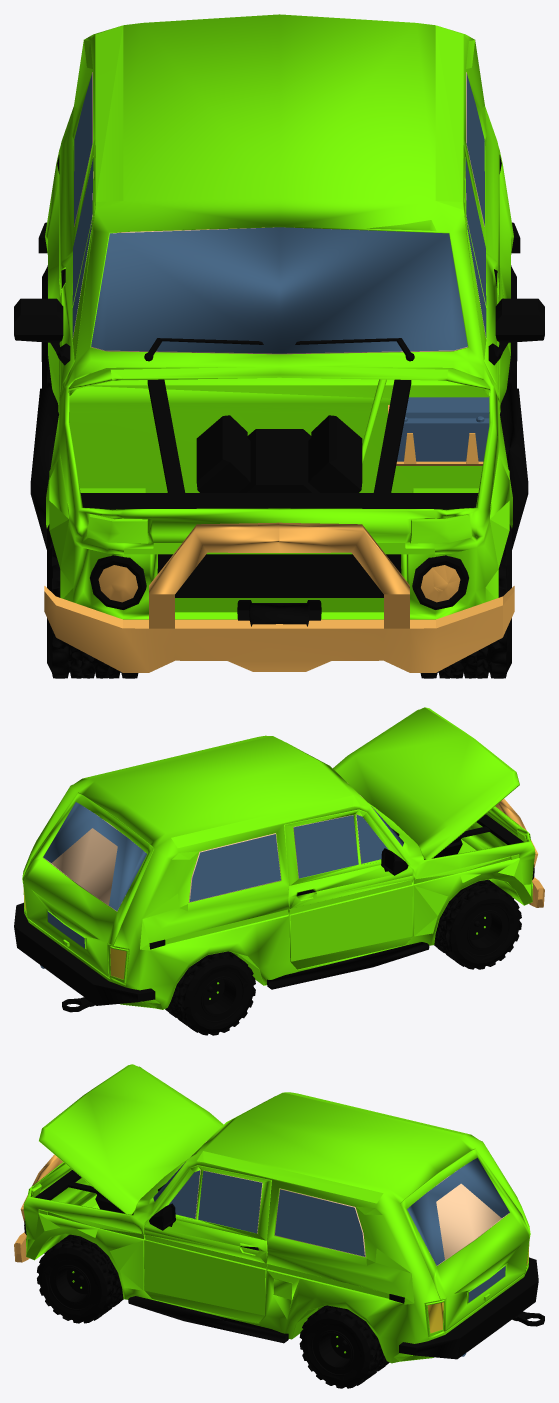
The model's file is Toy203.fbx.
3 renders of one model, top to bottom at view 1: azimuth 30°, elevation 25°; view 2: azimuth 150°, elevation 25°; view 3: azimuth 270°, elevation 25°, orthographic. The views are drawn at different scales.
Parts seen in each view (by area): view 1: Toy203; view 2: Toy203; view 3: Toy203.
Part boxes in pixels (x1,y1,x2,y2): Toy203: (14,14,544,678); Toy203: (14,707,544,1035); Toy203: (14,1064,544,1388).
Size of the model in its own units: 0.1677 by 0.0806 by 0.2026.
